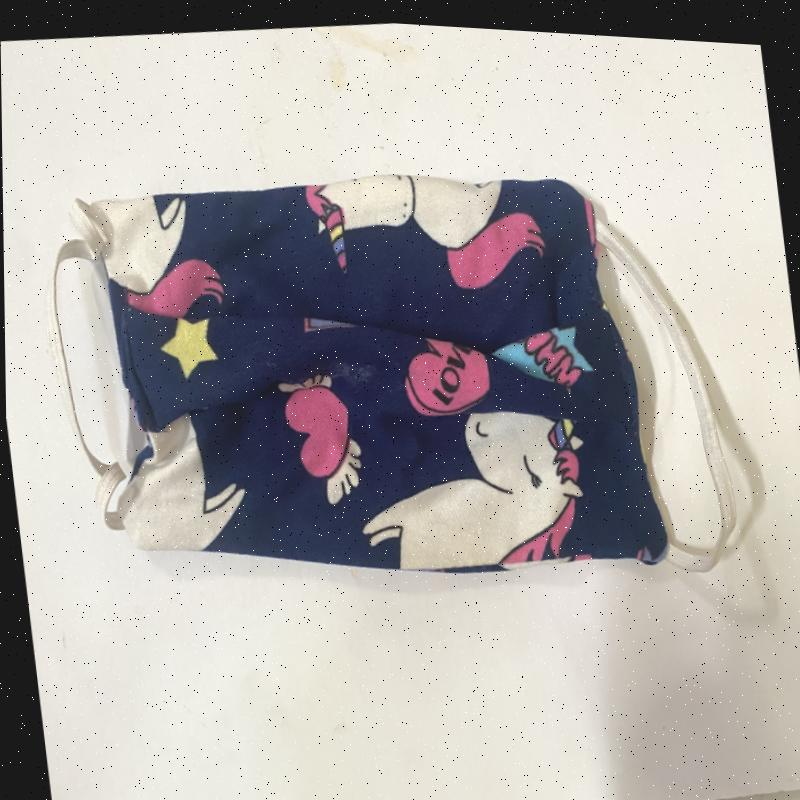facemask: (50, 172, 766, 573)
